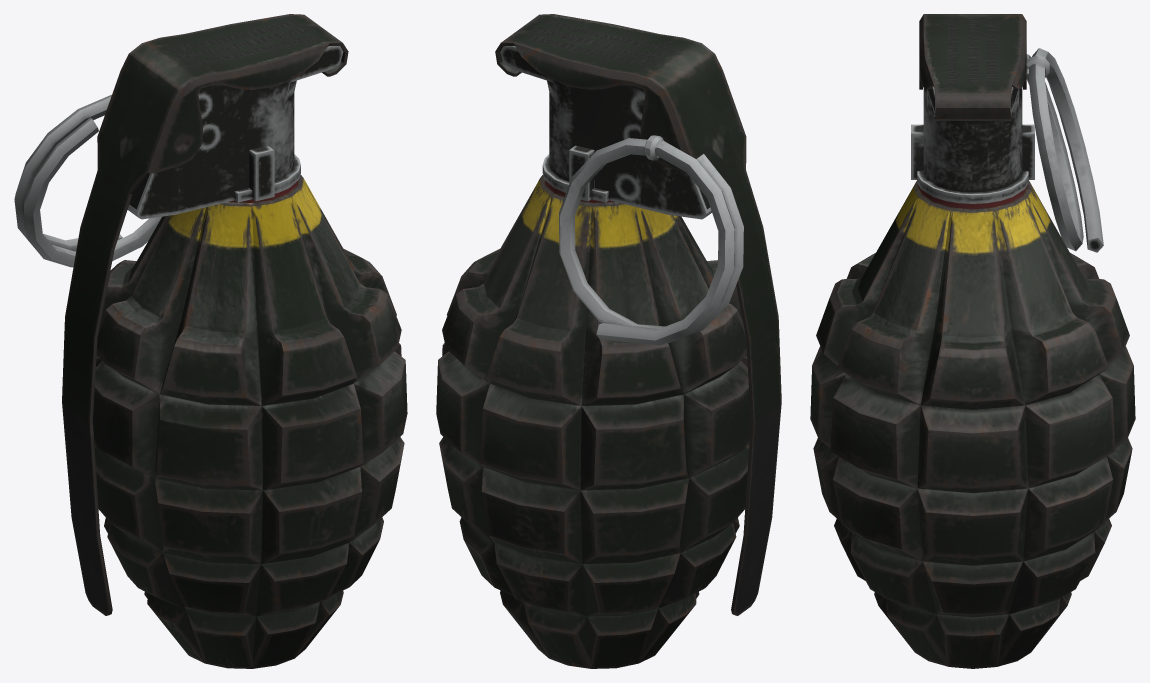
Rendered from Grant.fbx.
The picture shows the model from 3 angles, left to right: view 1: azimuth 30°, elevation 25°; view 2: azimuth 150°, elevation 25°; view 3: azimuth 270°, elevation 25°; orthographic projection.
Parts seen in each view (by area): view 1: Grant; view 2: Grant; view 3: Grant.
Part boxes in pixels (<box>): Grant: <box>14,14,407,668</box>; Grant: <box>436,14,781,668</box>; Grant: <box>810,14,1135,668</box>.
Bounding box in the file's own units: 10.31 × 18.23 × 9.07.
Materials: 1 (1 with a texture image).
